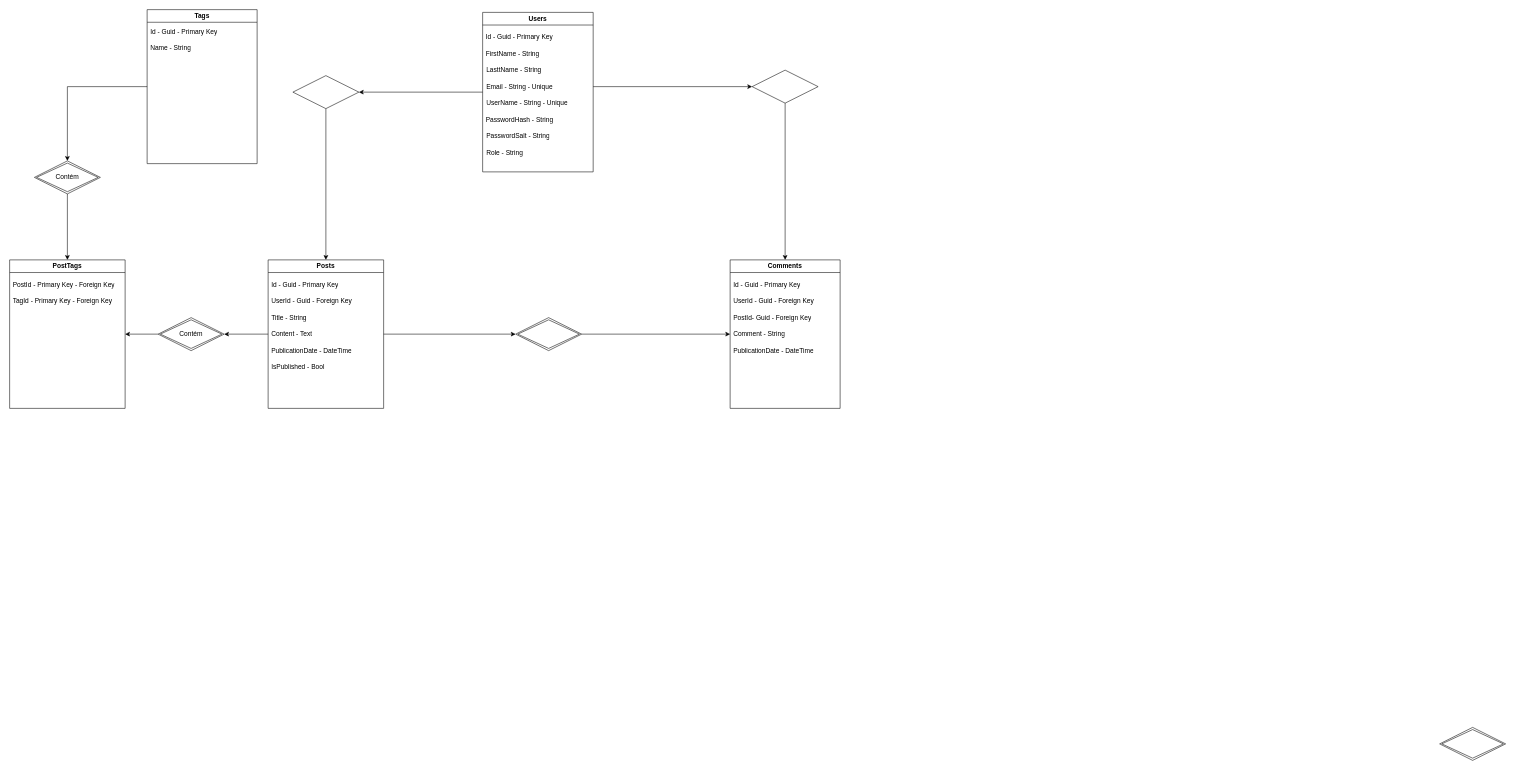
This 1515x770 diagram has some shape labels left out. The shapes that lost their labels are listed below. From the top down, each one's centre as x and y in pixels, then its label:
At [325,92]: "Realiza".
At [785,86]: "Faz".
At [548,334]: "Possui".
At [1472,743]: "Relationship".
